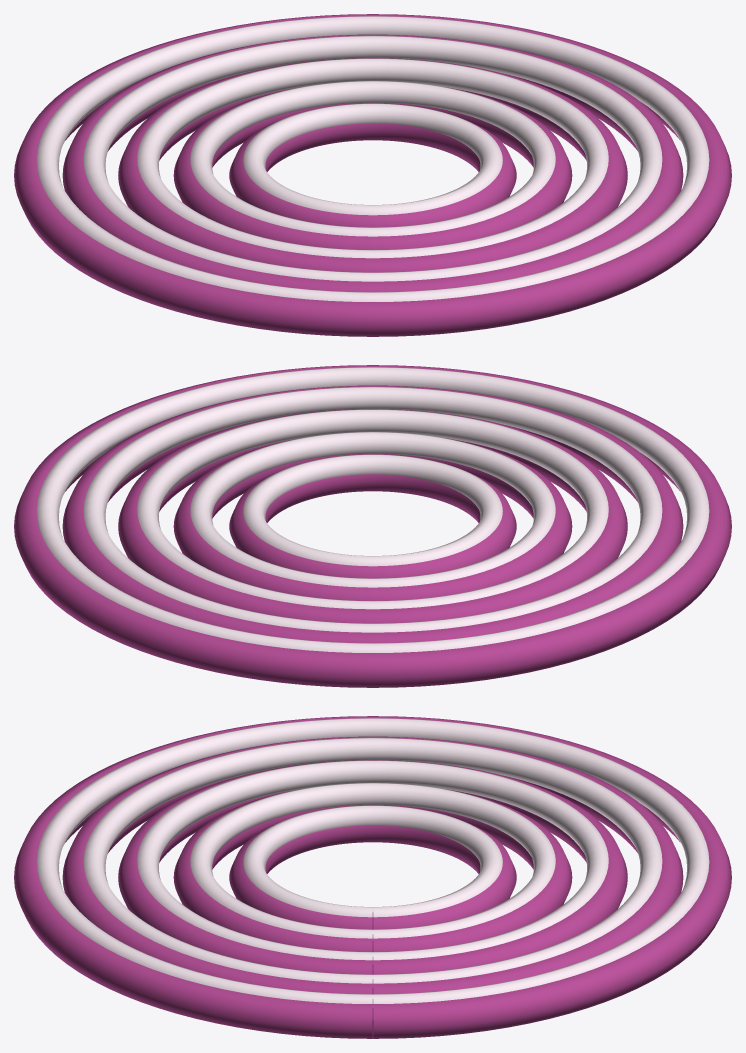
Rendered from item_onion.glb.
3 views of the same model, one above another, from view 1: azimuth 30°, elevation 25°; view 2: azimuth 150°, elevation 25°; view 3: azimuth 270°, elevation 25° (orthographic).
Parts seen in each view (by area): view 1: 紫の年輪; view 2: 紫の年輪; view 3: 紫の年輪.
Part boxes in pixels (box(x1,y1,x2,y2)): 紫の年輪: box(14, 14, 731, 336); 紫の年輪: box(14, 365, 731, 687); 紫の年輪: box(14, 716, 731, 1038).
Size of the model in its own units: 1.03 by 0.06 by 1.03.
